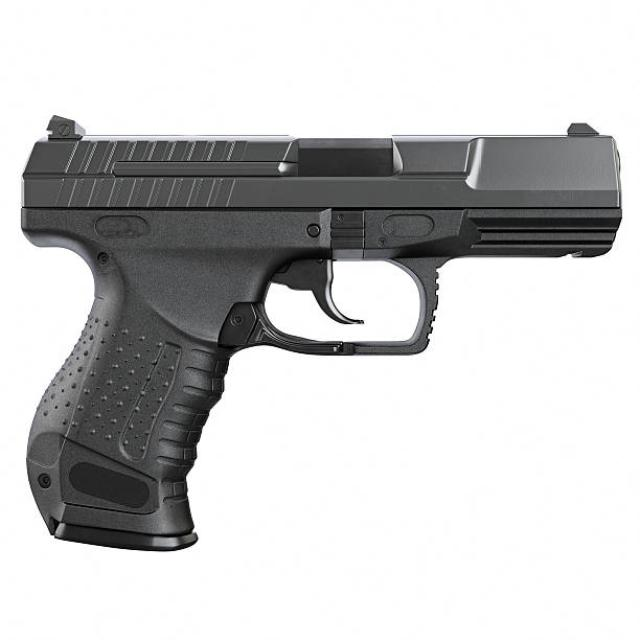pistol: (6, 110, 629, 555)
